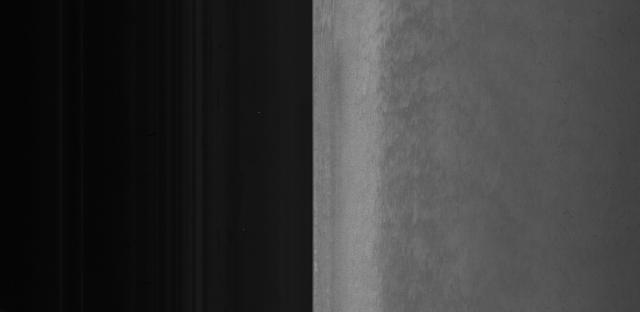silk_spot: (353, 54, 438, 212)
